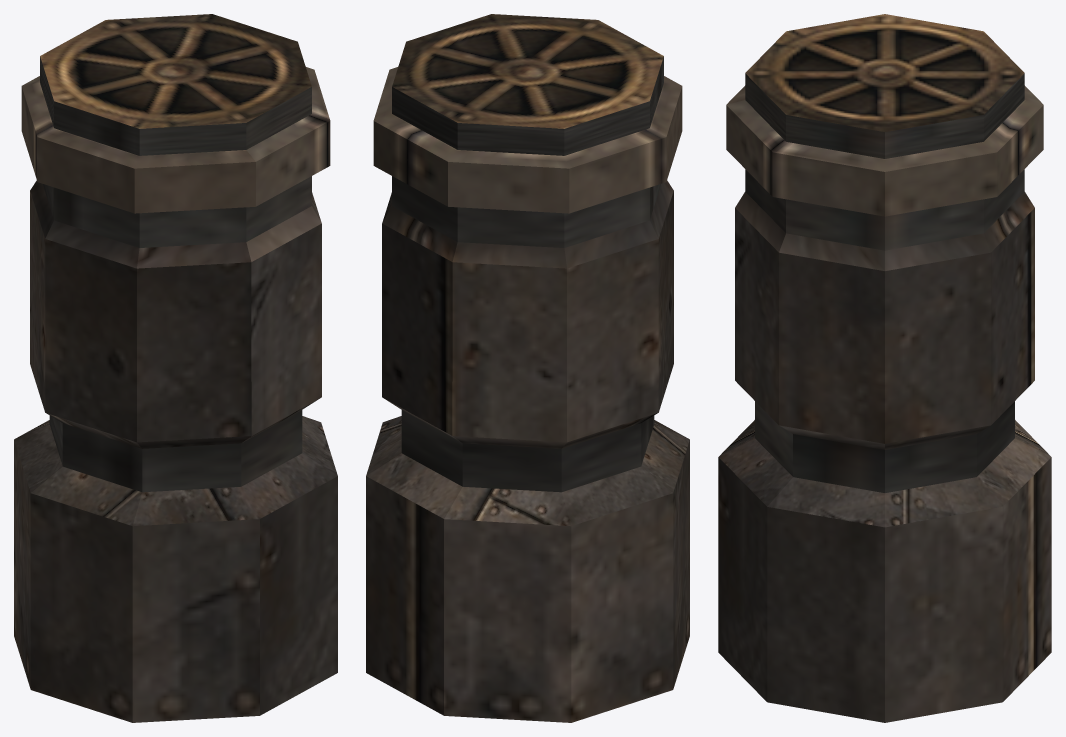
File: pipe_5.fbx
3 renders of one model, left to right at view 1: azimuth 30°, elevation 25°; view 2: azimuth 150°, elevation 25°; view 3: azimuth 270°, elevation 25°, orthographic.
Parts seen in each view (by area): view 1: pipe_5; view 2: pipe_5; view 3: pipe_5.
Boxes of the visible parts, x1=… form: pipe_5: x1=14, y1=14, x2=337, y2=722; pipe_5: x1=366, y1=14, x2=689, y2=722; pipe_5: x1=718, y1=14, x2=1051, y2=722.
Bounding box in the file's own units: 1.12 × 2.15 × 1.12.
